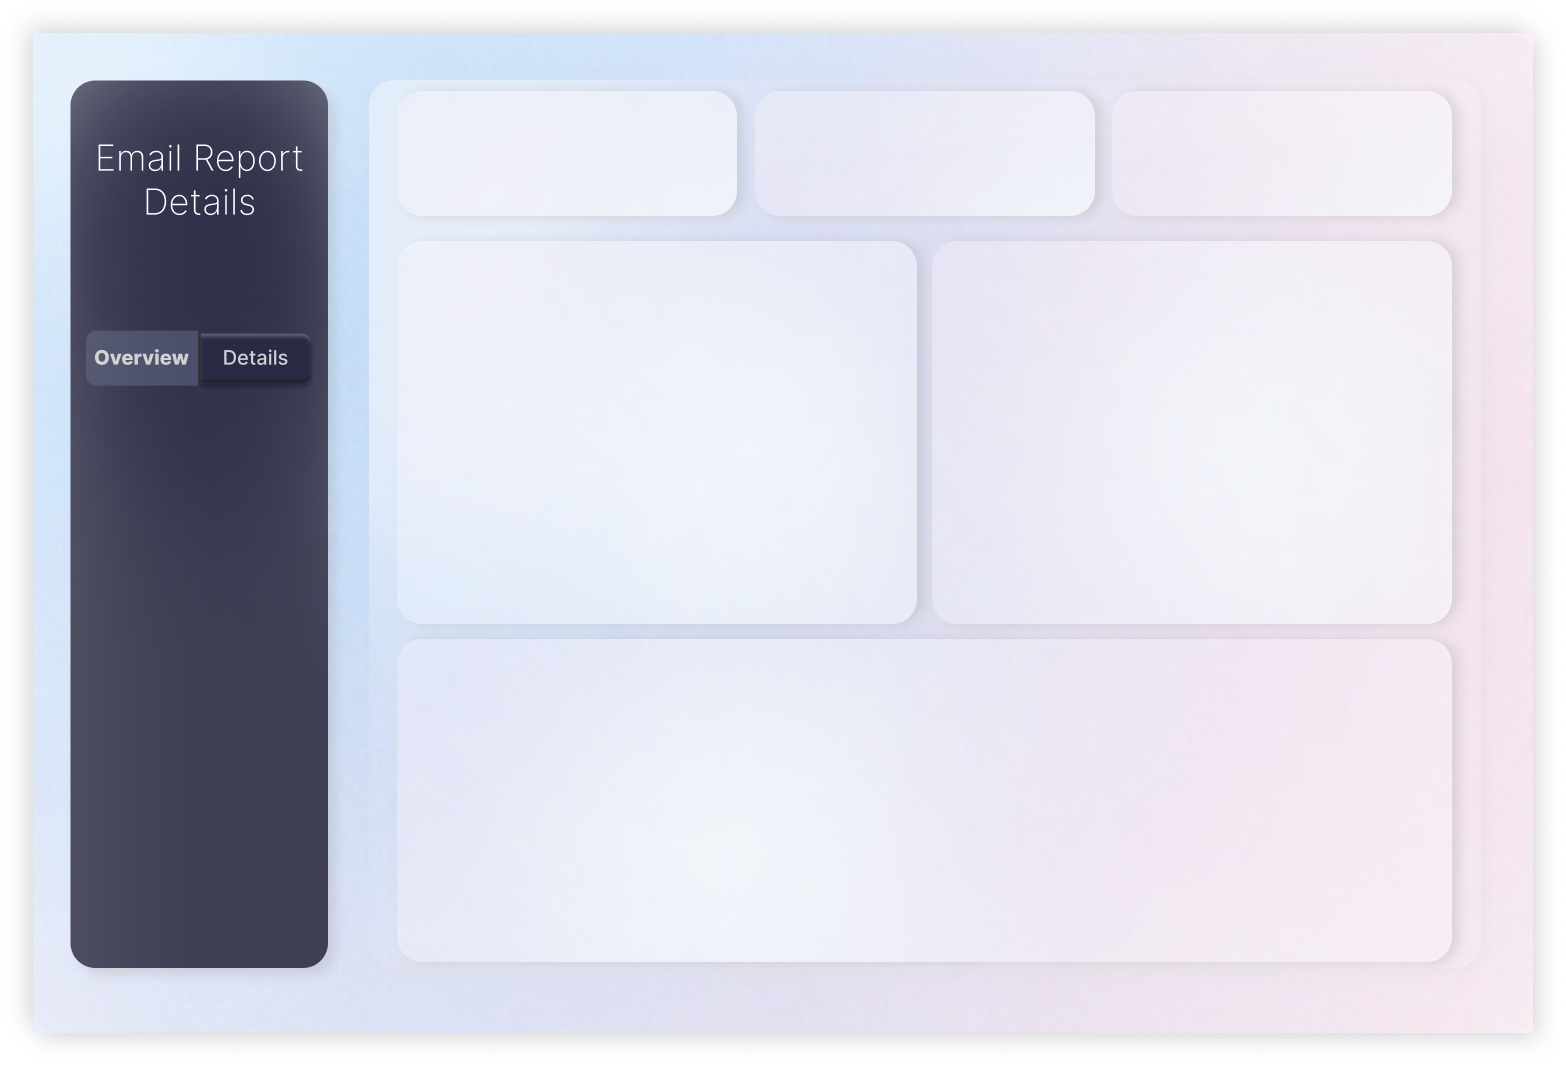

Layout of this report page (visuals, bound fields, positions):
{"tool":"powerbi","page":{"name":"Details","canvas":[1566,1066],"ordinal":1},"visuals":[{"type":"image","box":[0,0,1565,1067.5],"z":0},{"type":"shape","box":[91.5,333.7,111.1,53.7],"z":1000},{"type":"cardVisual","fields":{"Data":["_Measures.Email Count","_Measures.Email Count Sent","_Measures.Email Count Received"]},"box":[400,94.1,1047.2,129.4],"z":2000},{"type":"barChart","title":"The top 10 largest email volume by subject","fields":{"Y":["_Measures.Email Count Received","_Measures.Email Count Sent"],"Category":["Fact Email Data.Subject"]},"box":[400,251.4,515.7,374.3],"z":3000},{"type":"barChart","title":"The top 10 largest email volume by country","fields":{"Y":["_Measures.Email Count Received","_Measures.Email Count Sent"],"Category":["Fact Email Data.Country"]},"box":[931.4,251.4,505.7,374.3],"z":4000},{"type":"tableEx","title":"Email List","fields":{"Values":["Fact Email Data.Folder","Fact Email Data.Subject","Fact Email Data.Email","Fact Email Data.Country","Fact Email Data.Date sent/received"]},"box":[400,647.1,1037.8,301.2],"z":5000},{"type":"slicer","fields":{"Values":["Dim Date.Year","Dim Date.Month Long"]},"box":[84.7,414.2,233,80],"z":6000},{"type":"slicer","fields":{"Values":["Fact Email Data.Subject"]},"box":[84.7,524.8,233,80],"z":7000},{"type":"slicer","fields":{"Values":["Fact Email Data.Country"]},"box":[84.7,635.4,233,80],"z":8000}]}

Visuals, with their boxes in screenshot pixels (x1, y1, x2, y2), scaled from the page's 1566x1066 canvas onto the 1566x1066 screenshot:
image: <bbox>0, 0, 1565, 1065</bbox>
shape: <bbox>92, 334, 203, 387</bbox>
cardVisual - _Measures.Email Count x _Measures.Email Count Sent: <bbox>400, 94, 1447, 224</bbox>
"The top 10 largest email volume by subject" barChart: <bbox>400, 251, 916, 626</bbox>
"The top 10 largest email volume by country" barChart: <bbox>931, 251, 1437, 626</bbox>
"Email List" tableEx: <bbox>400, 647, 1438, 948</bbox>
slicer - Dim Date.Year x Dim Date.Month Long: <bbox>85, 414, 318, 494</bbox>
slicer - Fact Email Data.Subject: <bbox>85, 525, 318, 605</bbox>
slicer - Fact Email Data.Country: <bbox>85, 635, 318, 715</bbox>
